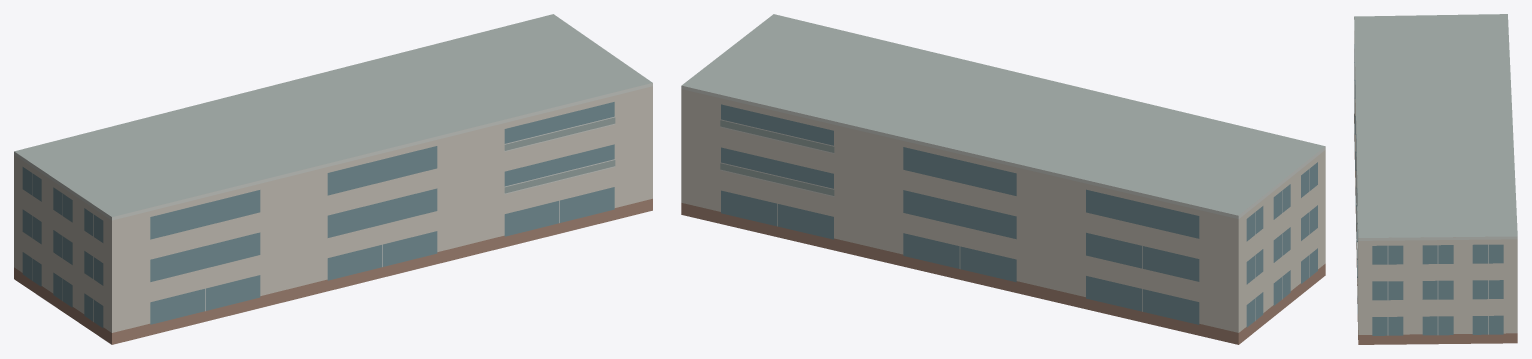
Rendered from survey-upis-32470585.glb.
3 views of the same model, side by side, from view 1: azimuth 30°, elevation 25°; view 2: azimuth 150°, elevation 25°; view 3: azimuth 270°, elevation 25° (orthographic). The views are drawn at different scales.
Parts seen in each view (by area): view 1: survey-upis-32470585.tmp; view 2: survey-upis-32470585.tmp; view 3: survey-upis-32470585.tmp.
Part boxes in pixels (<box>): survey-upis-32470585.tmp: <box>14,14,652,344</box>; survey-upis-32470585.tmp: <box>681,14,1325,344</box>; survey-upis-32470585.tmp: <box>1354,14,1517,344</box>.
Bounding box in the file's own units: 41.18 × 9.15 × 12.71.
